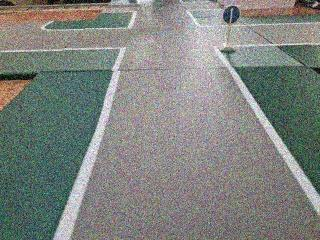straight: (220, 5, 242, 25)
